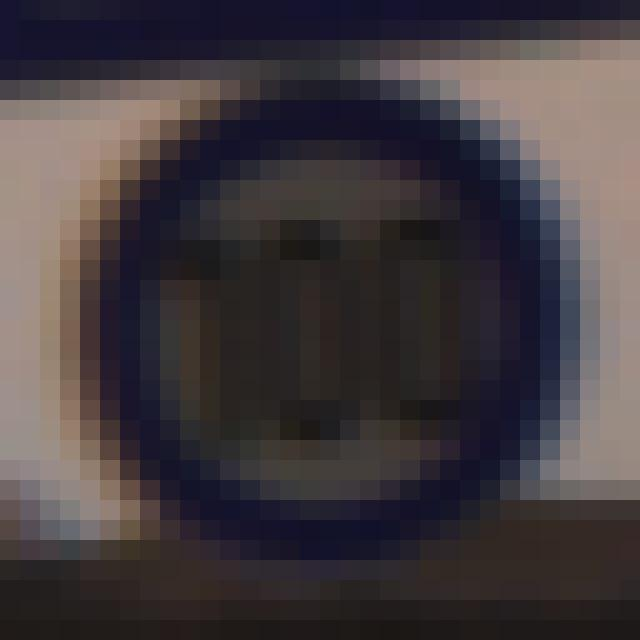SPEED LIMIT 100: (81, 73, 565, 544)
